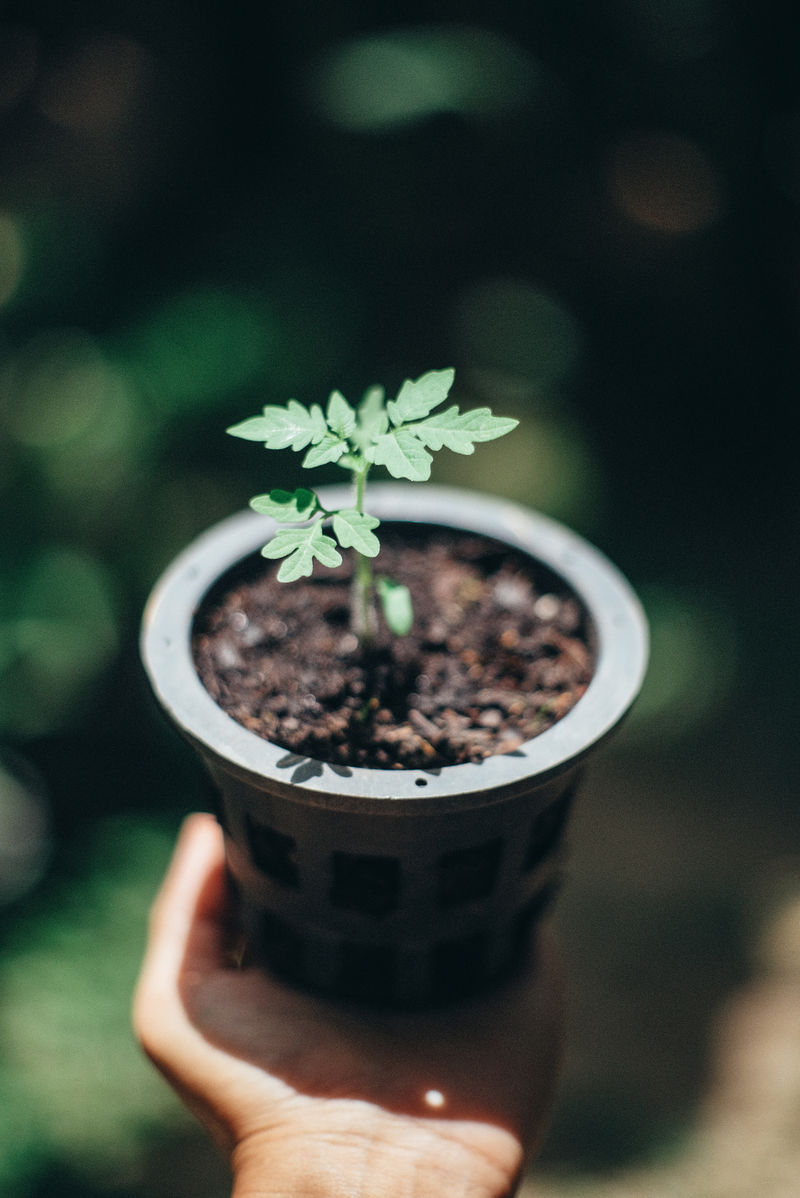tanaman: (98, 344, 658, 979)
